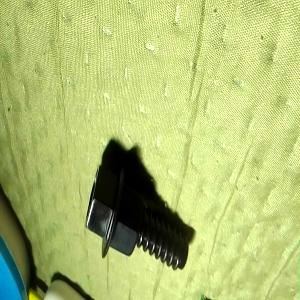parafuso: (84, 163, 189, 273)
